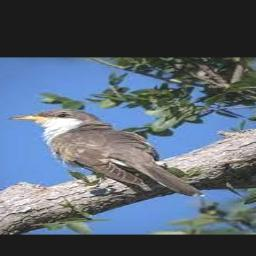Cuckoo: (10, 109, 207, 196)
